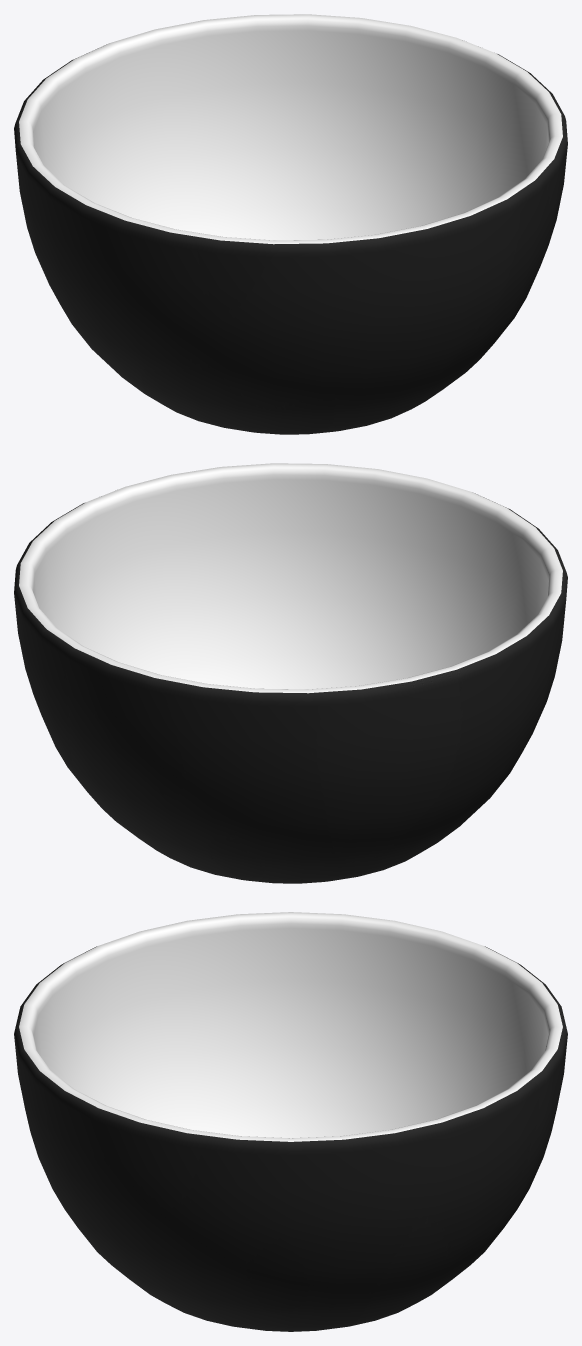
File: bowl_2.glb
The picture shows the model from 3 angles, top to bottom: view 1: azimuth 30°, elevation 25°; view 2: azimuth 150°, elevation 25°; view 3: azimuth 270°, elevation 25°; orthographic projection.
Visible parts, largest first — view 1: bowl01; view 2: bowl01; view 3: bowl01.
Part boxes in pixels (x1,y1,x2,y2): bowl01: (14,14,567,434); bowl01: (14,463,567,883); bowl01: (14,912,567,1331).
Bounding box in the file's own units: 0.1292 × 0.0676 × 0.1292.
Materials: 1 (1 with a texture image).
